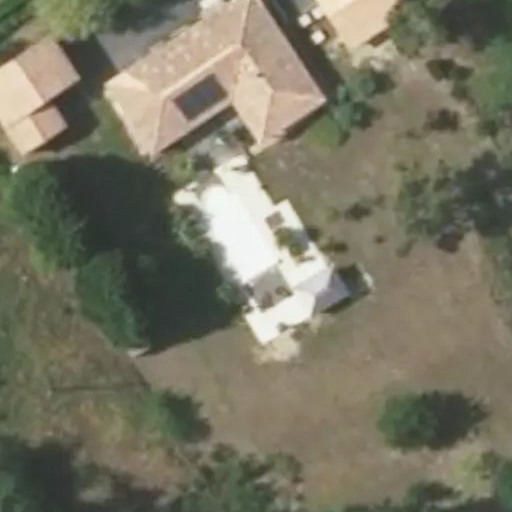pool: (217, 215, 295, 268)
